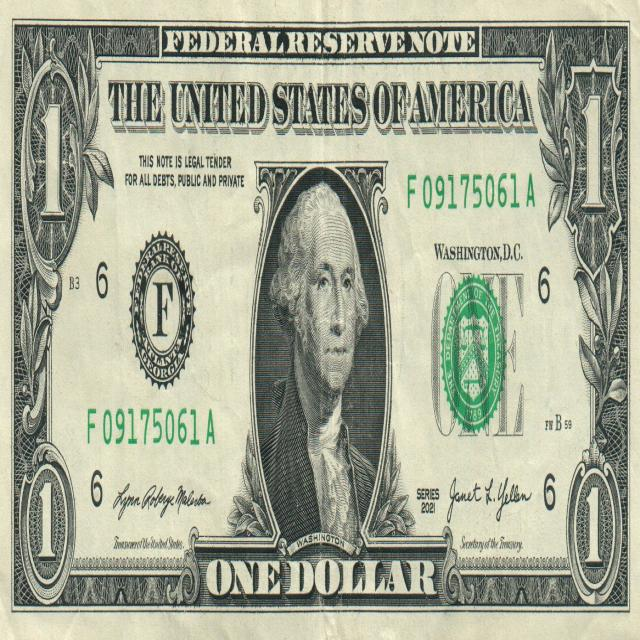SerialNumber: (88, 408, 200, 445), (408, 173, 520, 209)
